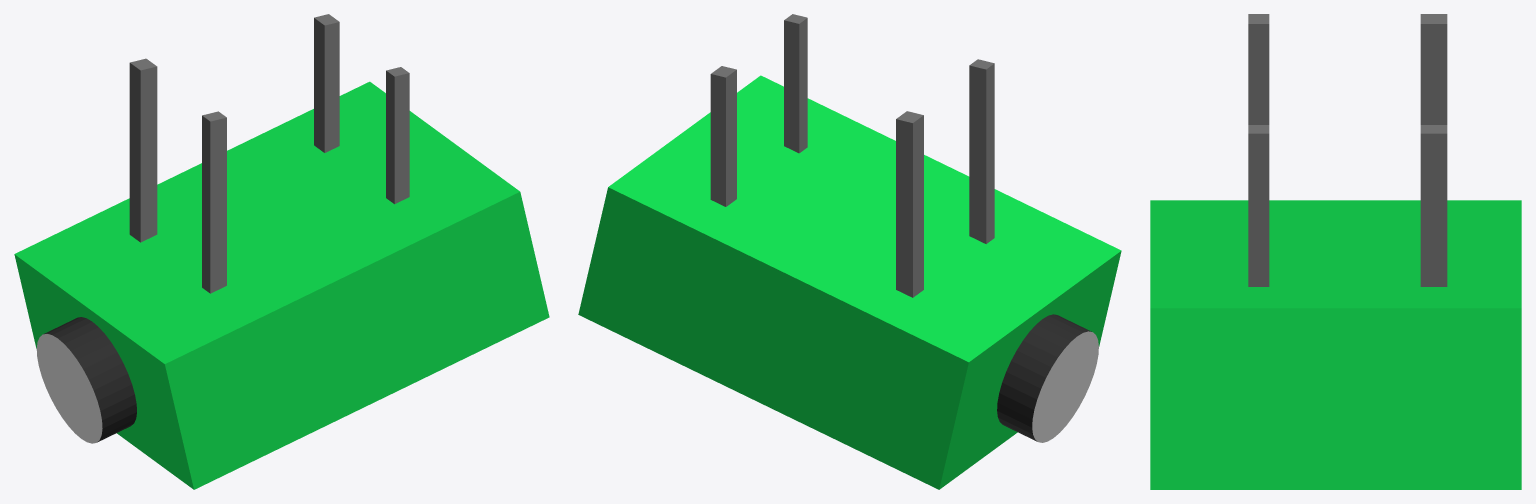
File: Projector.fbx
3 views of the same model, side by side, from view 1: azimuth 30°, elevation 25°; view 2: azimuth 150°, elevation 25°; view 3: azimuth 270°, elevation 25° (orthographic). The views are drawn at different scales.
Visible parts, largest first — view 1: Projector; view 2: Projector; view 3: Projector.
Boxes of the visible parts, x1,y1,x2,y2 form: Projector: [14, 14, 549, 489]; Projector: [578, 14, 1121, 489]; Projector: [1150, 14, 1521, 489].
Bounding box in the file's own units: 160 × 119 × 100.
